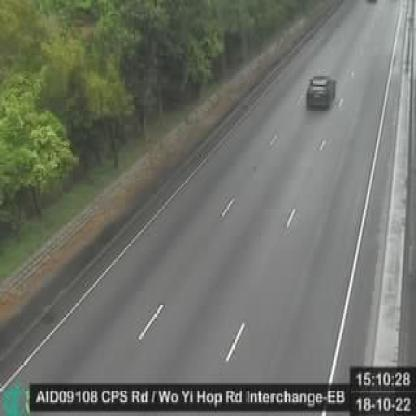Car: (306, 73, 338, 112)
